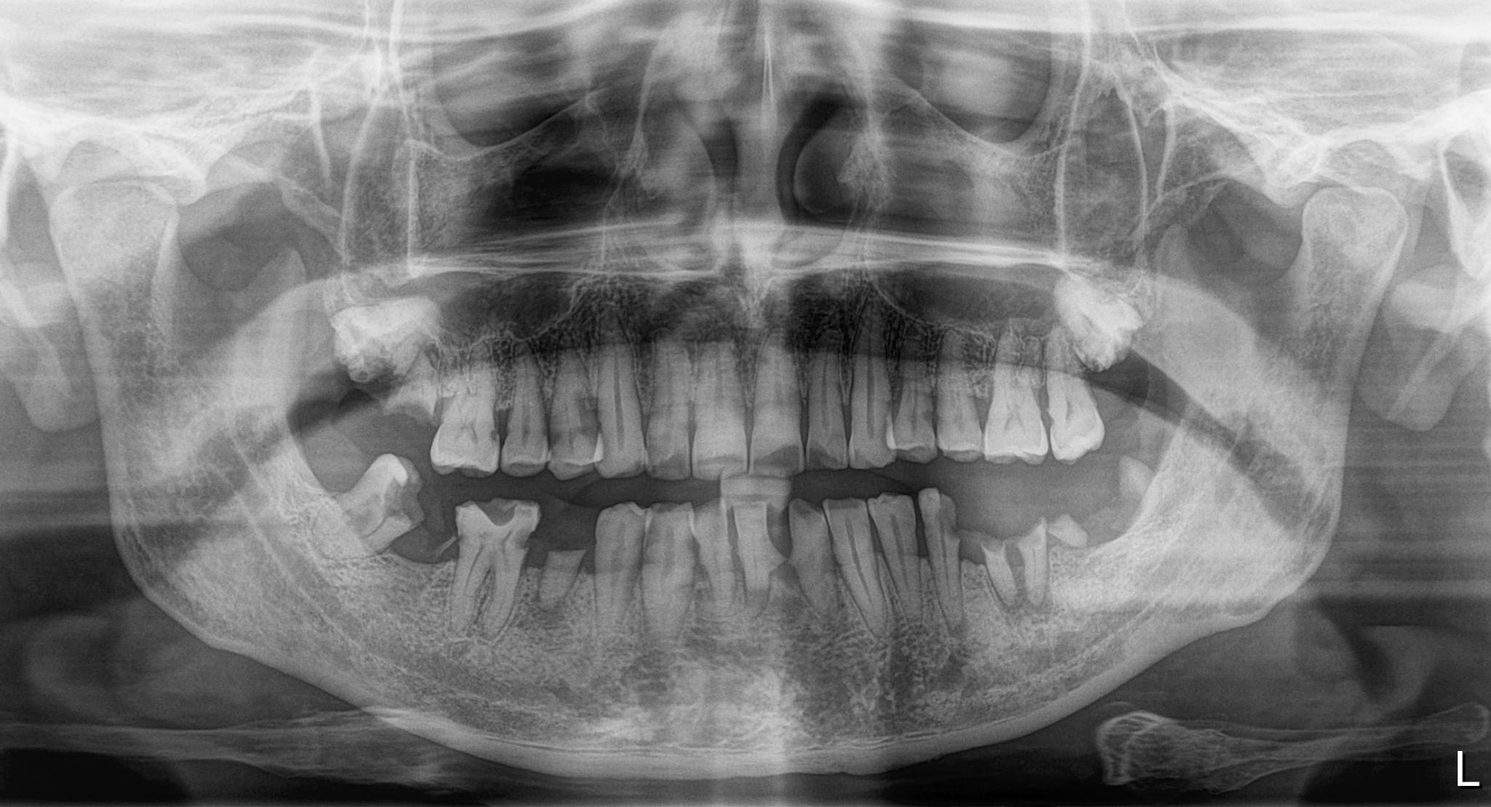Dental Caries: (371, 482, 422, 518), (928, 493, 963, 536)
Impacted Third Molar: (1054, 271, 1158, 374), (326, 306, 451, 373)
Missing Tooth: (411, 522, 458, 597)
Retained Root: (961, 493, 1093, 611), (531, 513, 590, 646), (1099, 455, 1164, 543), (395, 366, 440, 459)
